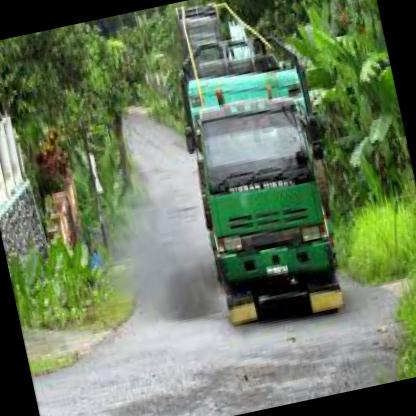truck: (186, 83, 349, 330)
